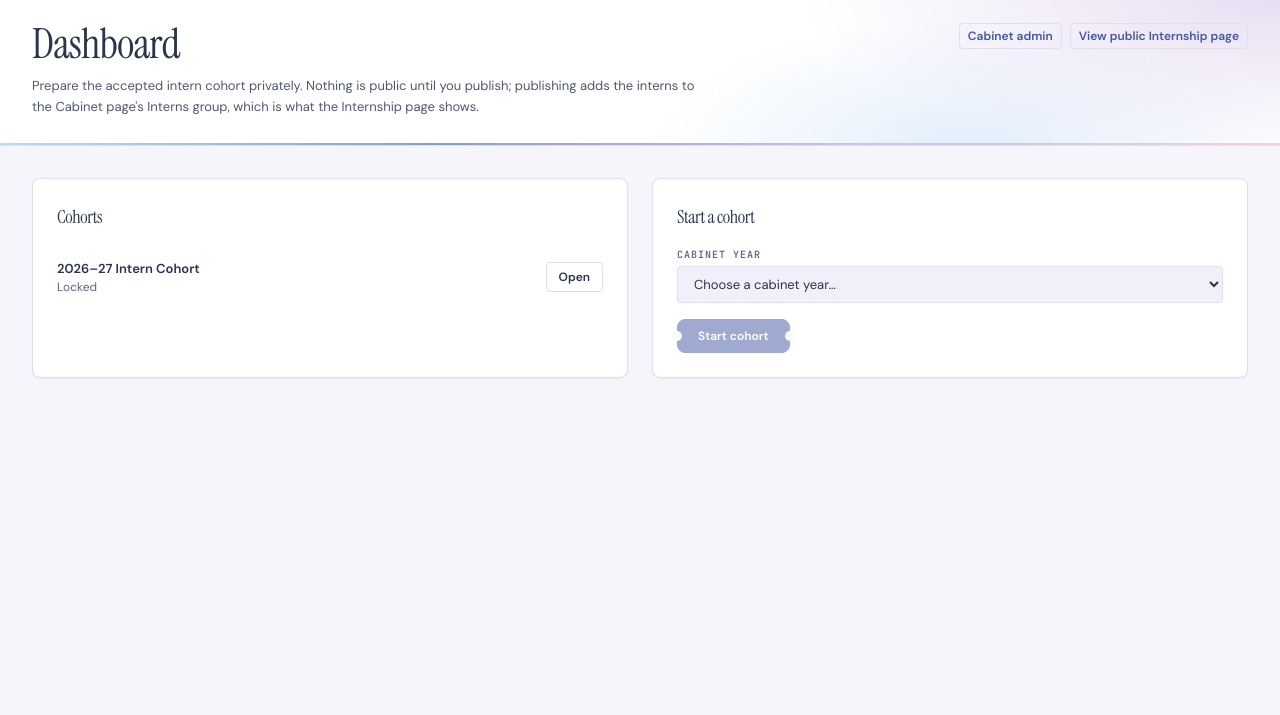
Test case: shadow positions › is read-only when the cohort is locked, while the summary still shows it
Click the button "Open" at (574, 277), box [546,262,603,292]
(page scrolled)
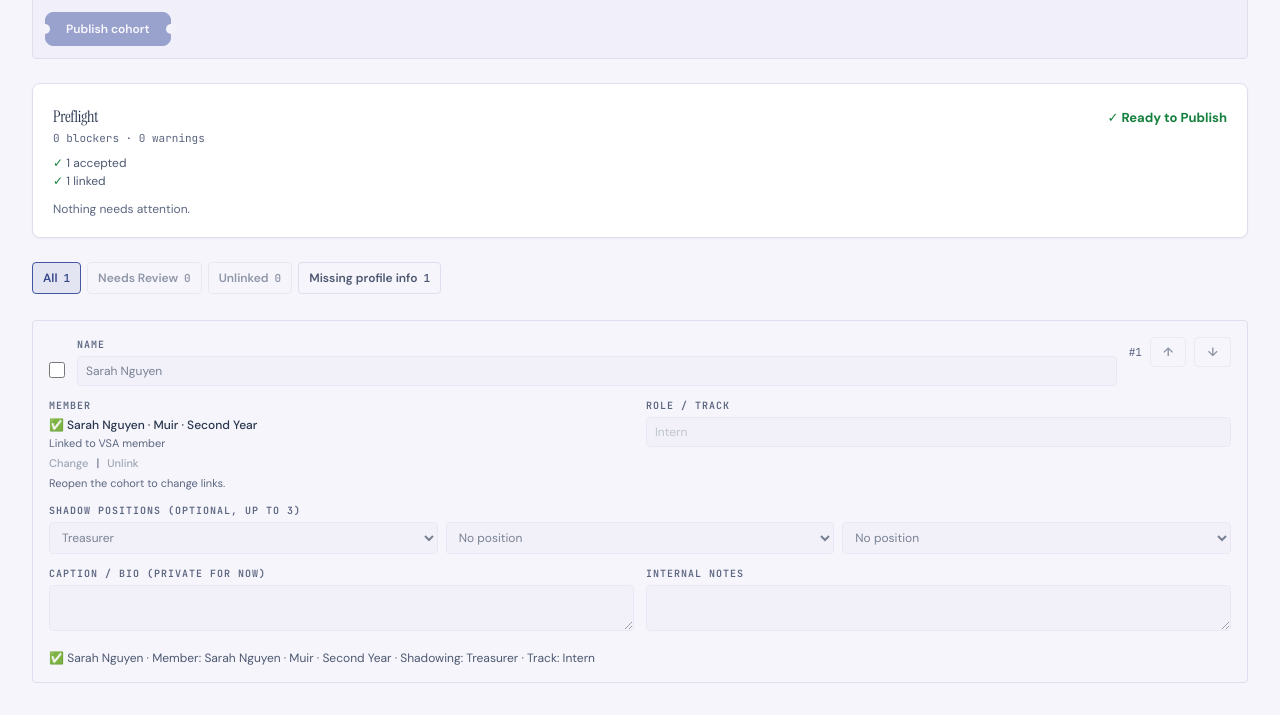
Check: the text "Shadowing: Treasurer" is shown, box [49,650,595,666]
